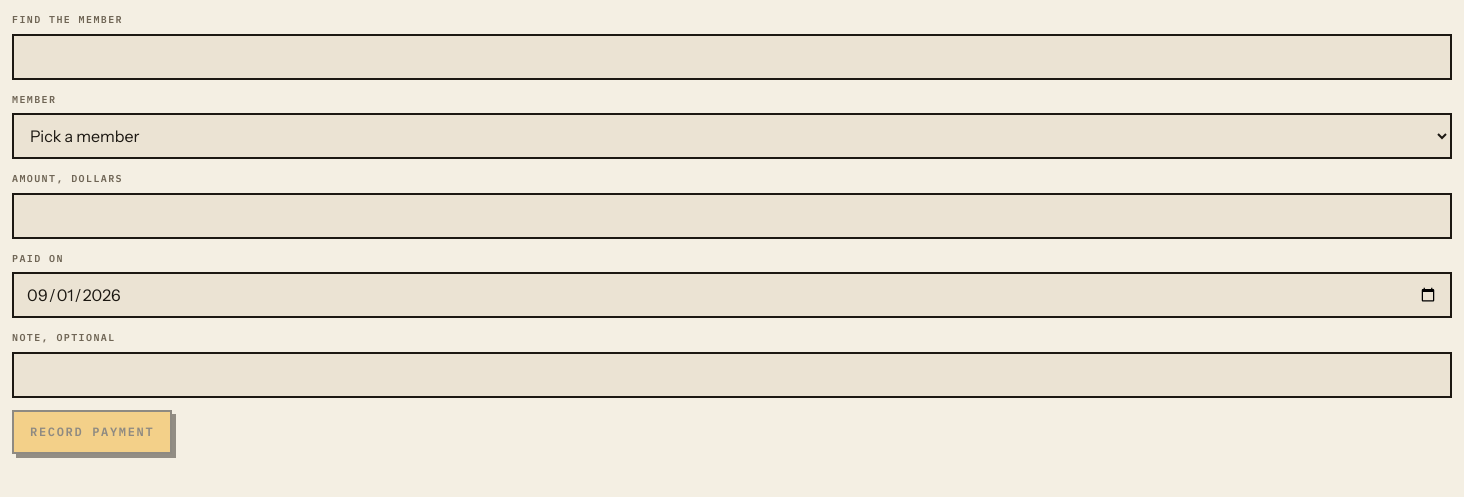
Test case: PaymentForm, filled in › records nothing for an amount that is not money, and says why
The image size is (1464, 497).
Select "J. Tanaka" in the dropdown labelled "Member". click: {"x": 732, "y": 136}
box: [12,113,1452,159]
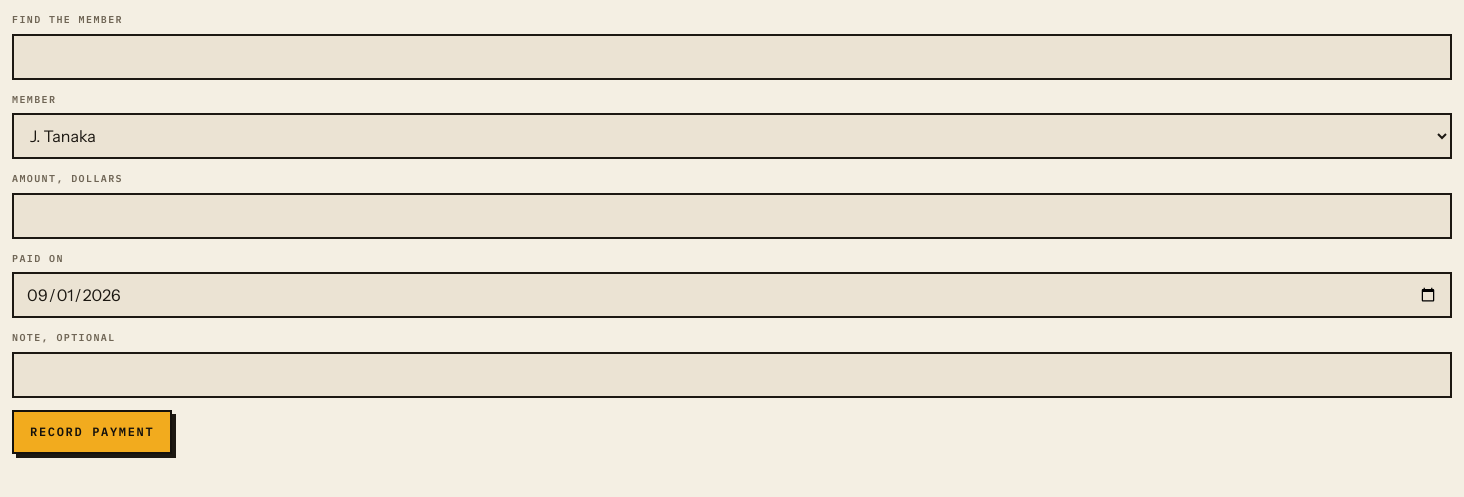
Type "fifty" into the field labelled "Amount, dollars". click: {"x": 732, "y": 216}
box: [12,192,1452,238]
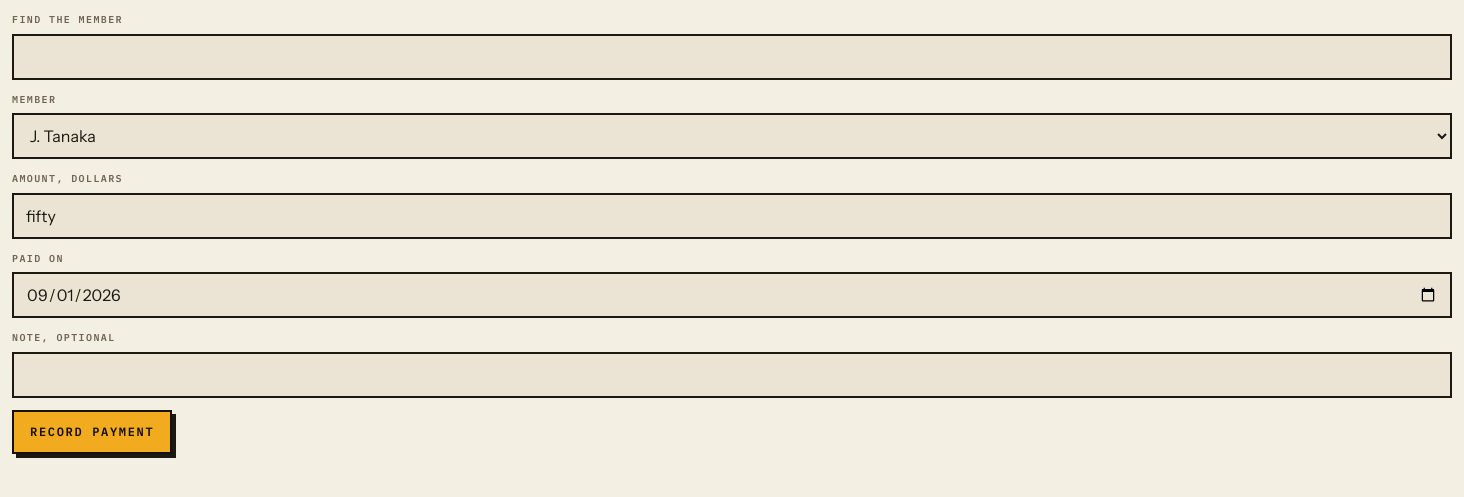
Click the button "Record payment". click: {"x": 92, "y": 432}
box: [12,410,172,454]
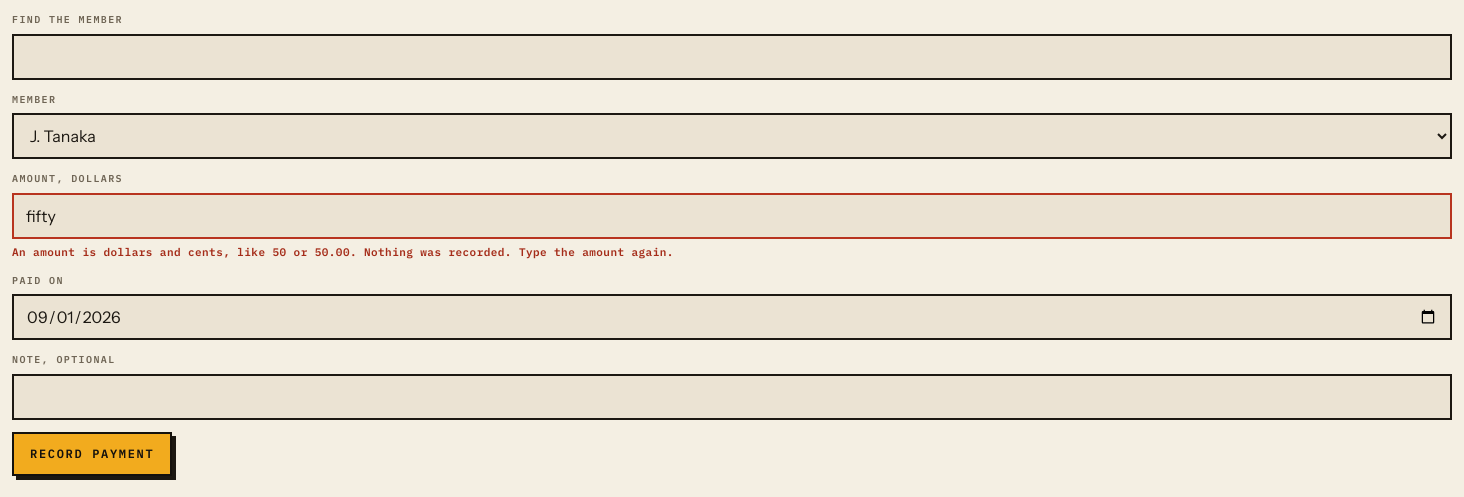
Expected: the text "An amount is dollars and cents" is shown, [12,244,674,258]
